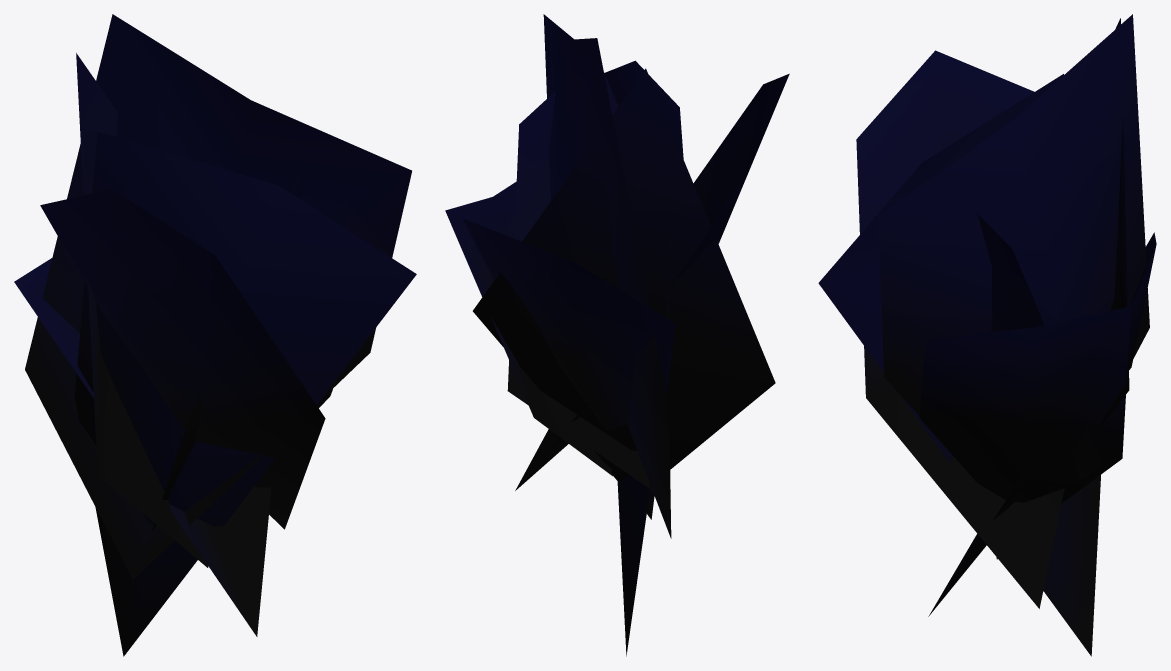
The model's file is SM_Foliage_ReedShoreA_03.fbx.
3 views of the same model, side by side, from view 1: azimuth 30°, elevation 25°; view 2: azimuth 150°, elevation 25°; view 3: azimuth 270°, elevation 25° (orthographic). The views are drawn at different scales.
Parts seen in each view (by area): view 1: SM_Foliage_ReedShoreA_03; view 2: SM_Foliage_ReedShoreA_03; view 3: SM_Foliage_ReedShoreA_03.
Part boxes in pixels (bbox=[...]): SM_Foliage_ReedShoreA_03: bbox=[14, 14, 416, 656]; SM_Foliage_ReedShoreA_03: bbox=[445, 14, 789, 656]; SM_Foliage_ReedShoreA_03: bbox=[818, 14, 1156, 656].
Size of the model in its own units: 68.44 by 67.82 by 143.
